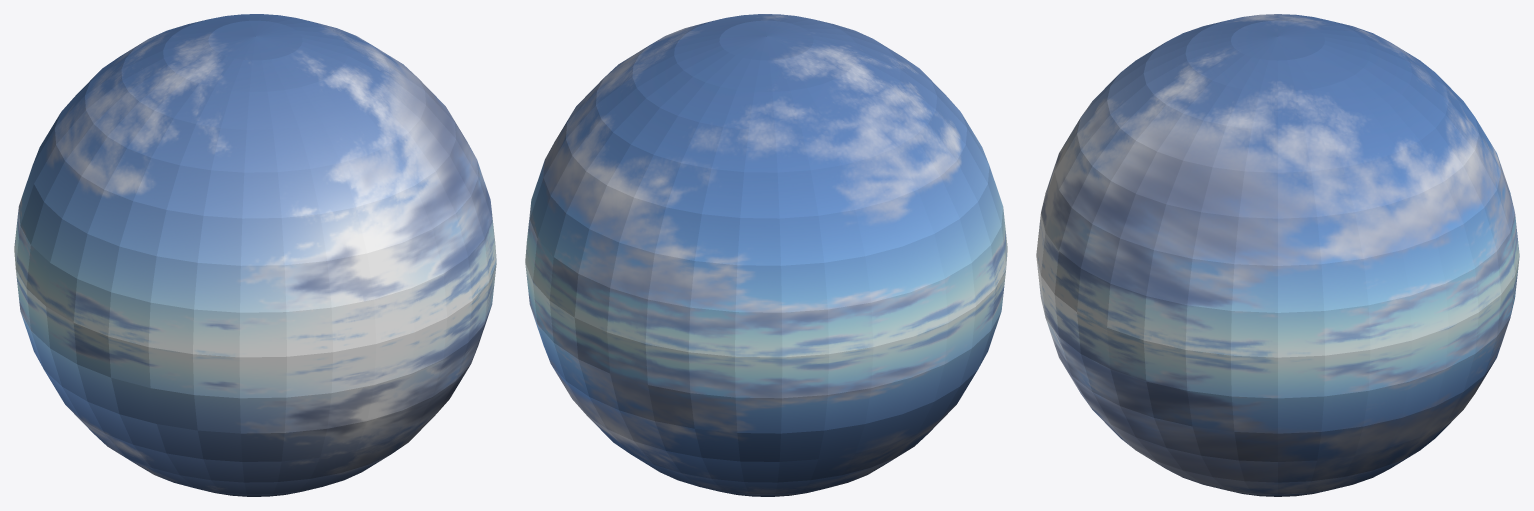
Rendered from stage10.glb.
3 views of the same model, side by side, from view 1: azimuth 30°, elevation 25°; view 2: azimuth 150°, elevation 25°; view 3: azimuth 270°, elevation 25° (orthographic).
Visible parts, largest first — view 1: Sphere; view 2: Sphere; view 3: Sphere.
Boxes of the visible parts, x1,y1,x2,y2 form: Sphere: (14,14,496,496); Sphere: (525,14,1007,496); Sphere: (1036,14,1519,496).
Size of the model in its own units: 500 by 500 by 500.
Materials: 7 (2 with a texture image).
